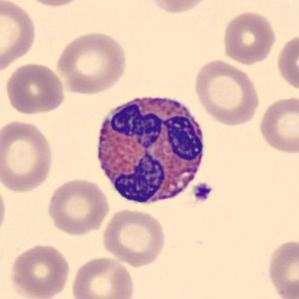Eosinophil: (89, 86, 211, 212)
Platelets: (191, 181, 214, 203)
RBC: (54, 29, 129, 96), (191, 58, 263, 127), (0, 118, 56, 194), (100, 206, 168, 268), (45, 175, 111, 236), (6, 242, 72, 299), (4, 61, 66, 116), (220, 9, 278, 66), (69, 254, 136, 299), (0, 0, 38, 75), (257, 94, 298, 155), (265, 237, 298, 298), (275, 30, 298, 96), (144, 0, 212, 15), (19, 0, 89, 8), (0, 178, 8, 243)
